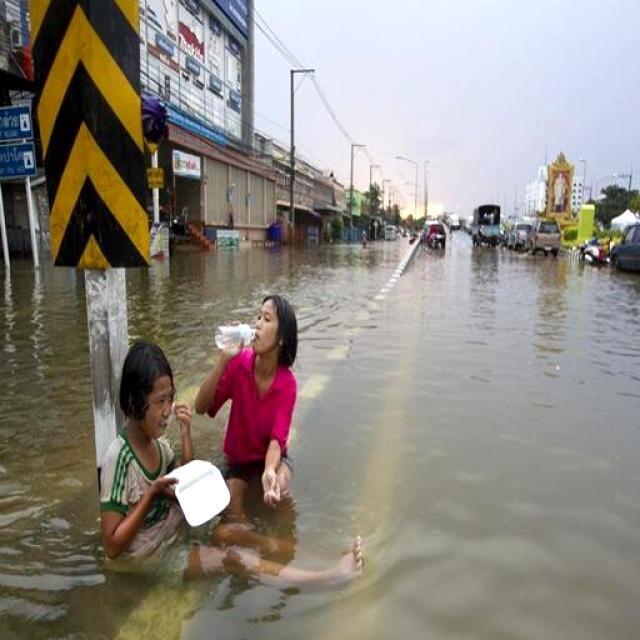civilian: (78, 326, 373, 609), (203, 278, 310, 518)
